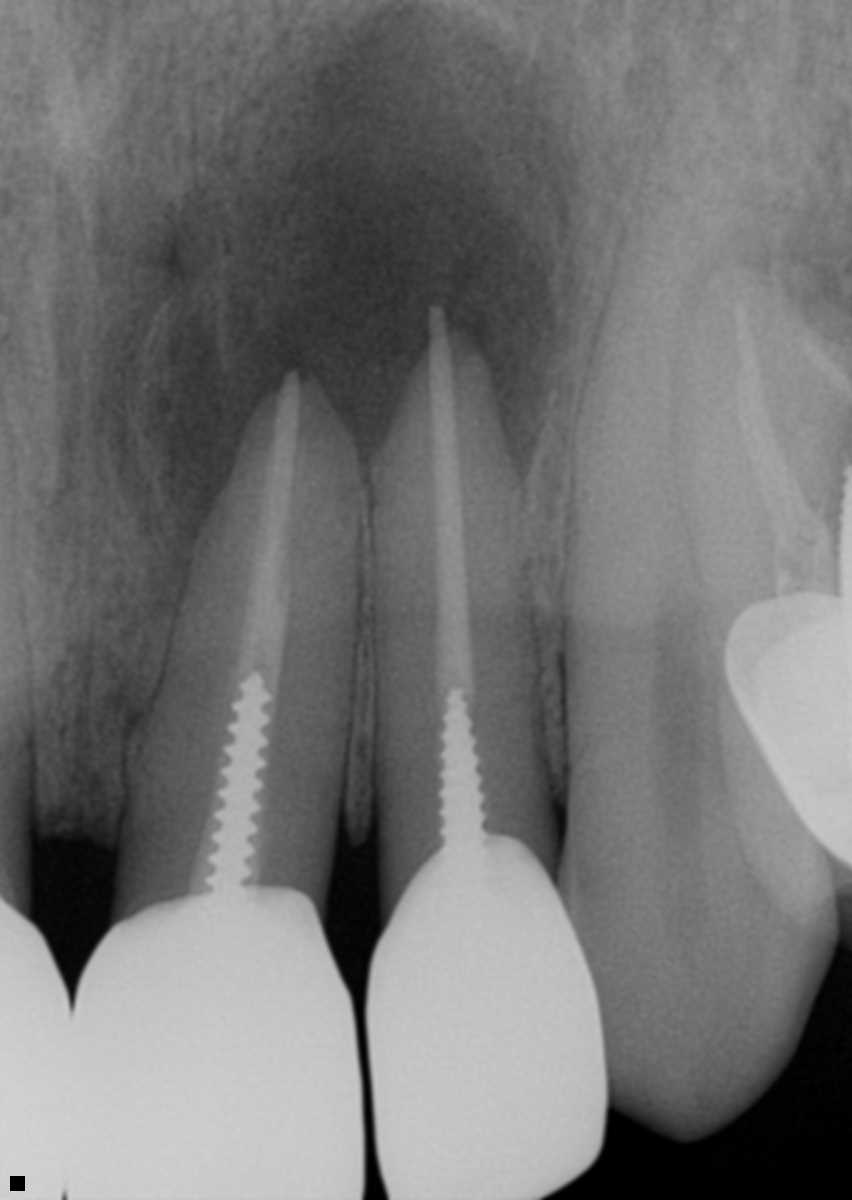Apical Lesion: (115, 0, 591, 538)
Main Canal: (649, 367, 713, 743)
Main Root: (563, 81, 852, 760), (118, 380, 367, 852), (367, 326, 550, 801), (679, 252, 852, 630)
Root Canal Filling: (736, 294, 835, 601), (238, 366, 300, 691), (427, 301, 476, 704)
